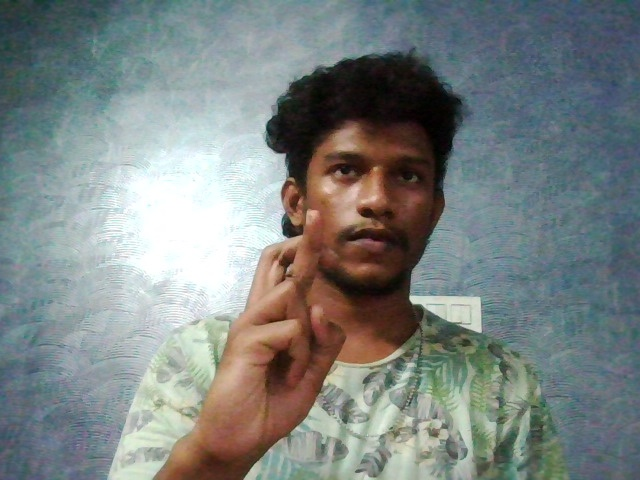hope: (183, 191, 378, 479)
